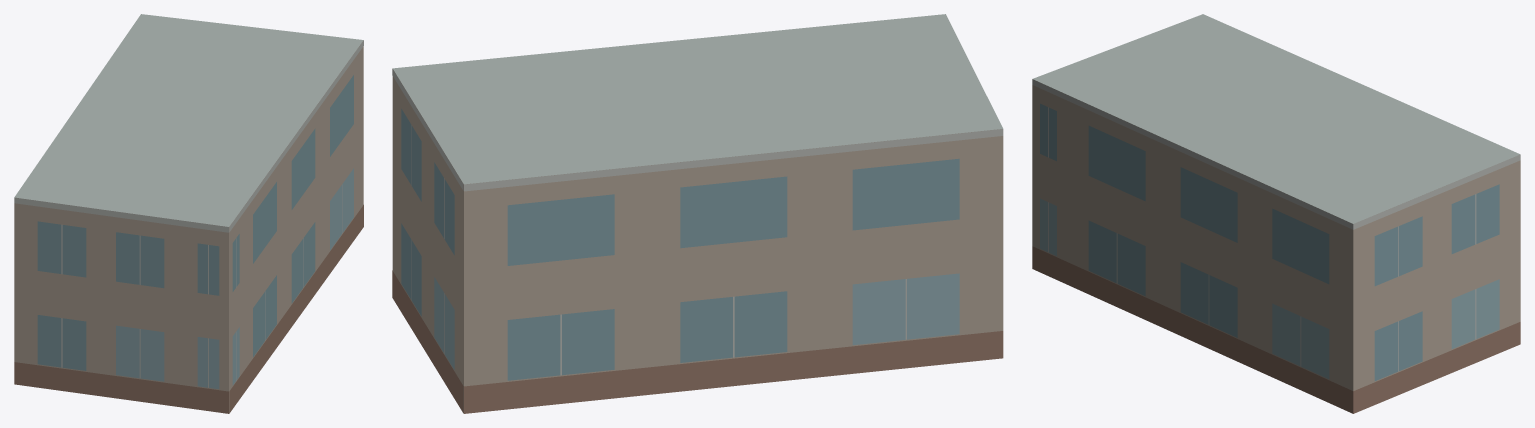
File: survey-upis-32956541.glb
The picture shows the model from 3 angles, left to right: view 1: azimuth 30°, elevation 25°; view 2: azimuth 150°, elevation 25°; view 3: azimuth 270°, elevation 25°; orthographic projection. The views are drawn at different scales.
Visible parts, largest first — view 1: survey-upis-32956541.tmp; view 2: survey-upis-32956541.tmp; view 3: survey-upis-32956541.tmp.
Part boxes in pixels (box(x1,y1,x2,y2)): survey-upis-32956541.tmp: box(14, 14, 363, 413); survey-upis-32956541.tmp: box(392, 14, 1003, 413); survey-upis-32956541.tmp: box(1032, 14, 1520, 413).
Bounding box in the file's own units: 18.75 × 7.9 × 18.42.
